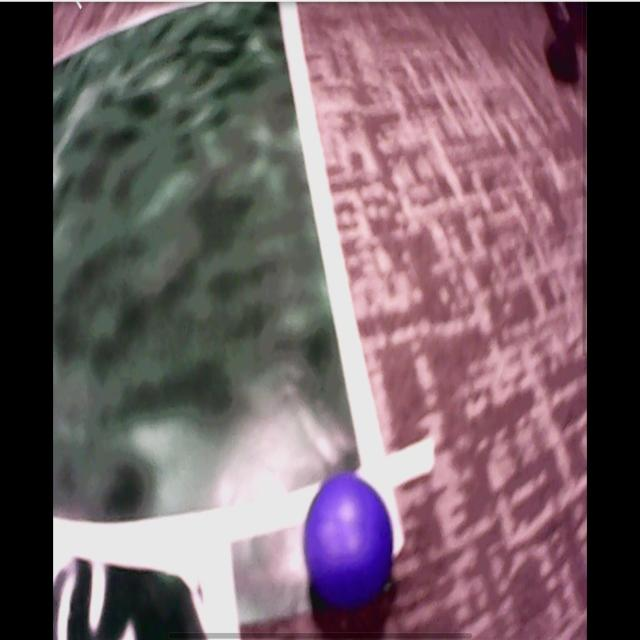ball: (303, 475, 395, 606)
